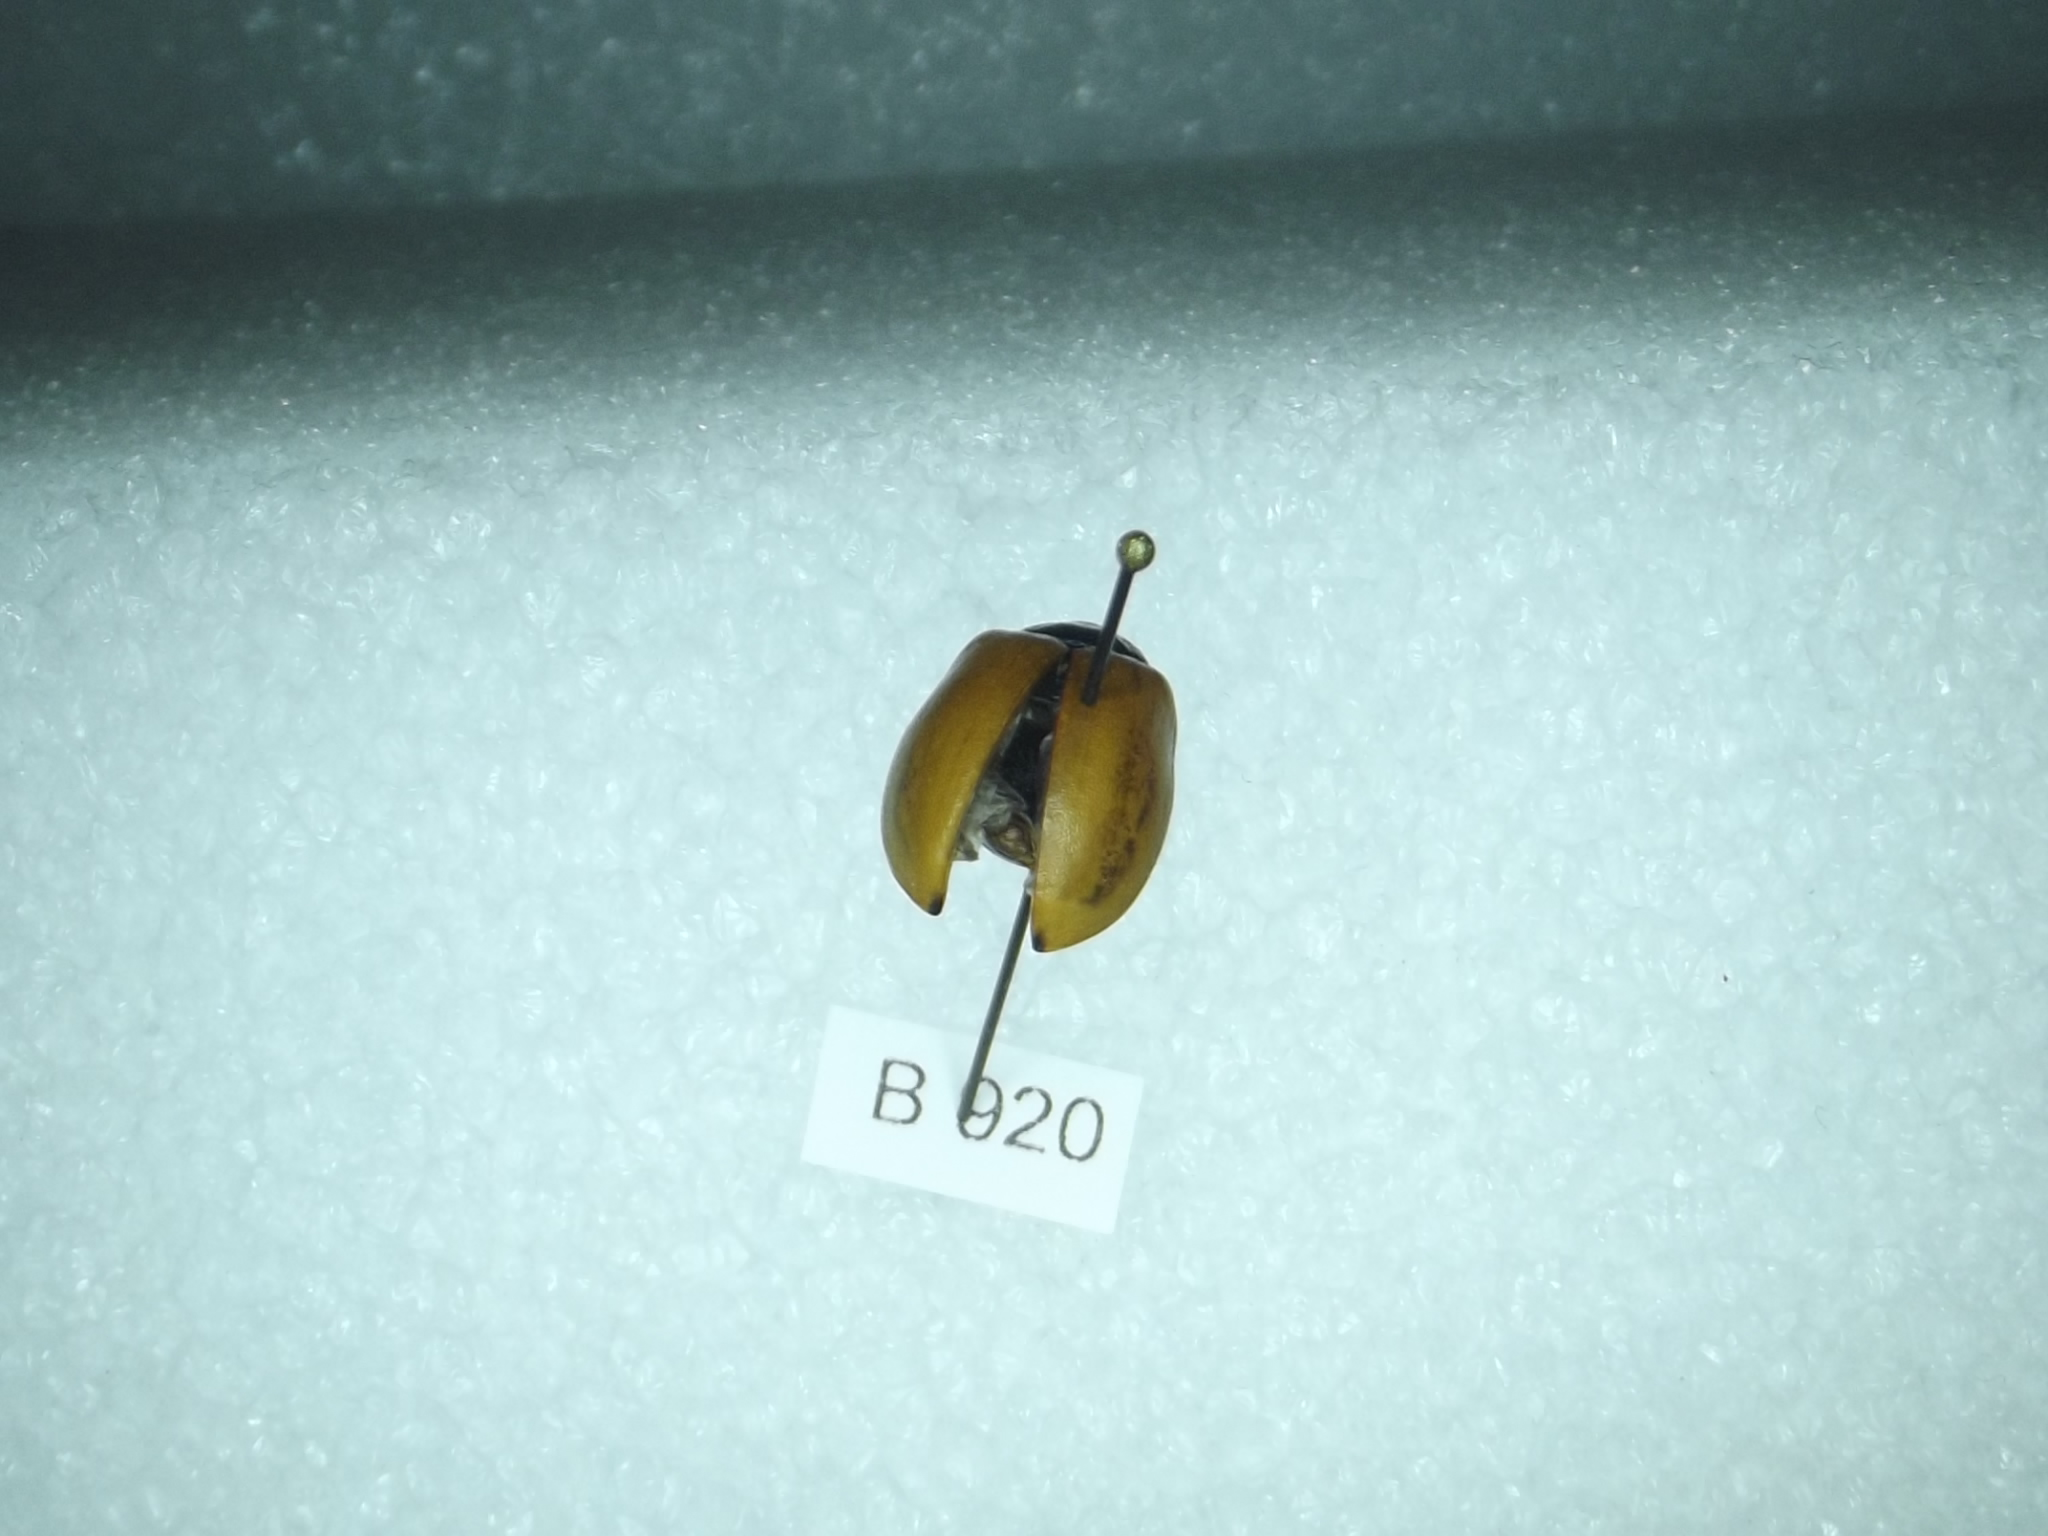Chrysomela_populi: (869, 605, 1192, 966)
